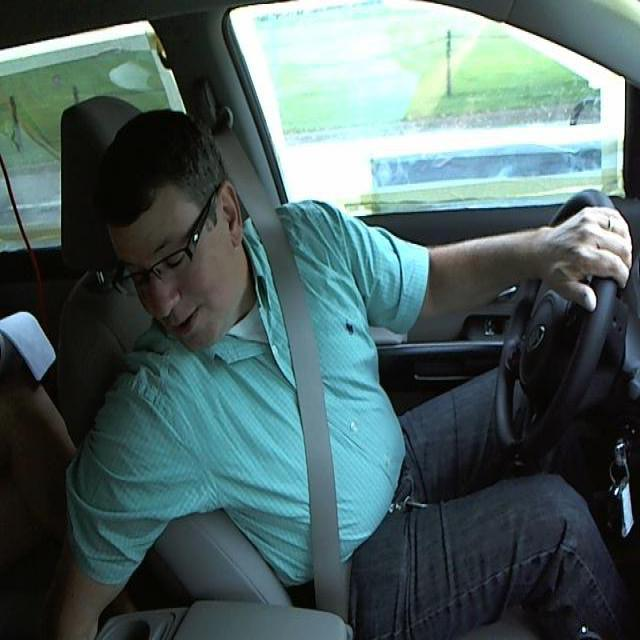seatbelt: (243, 201, 366, 607)
